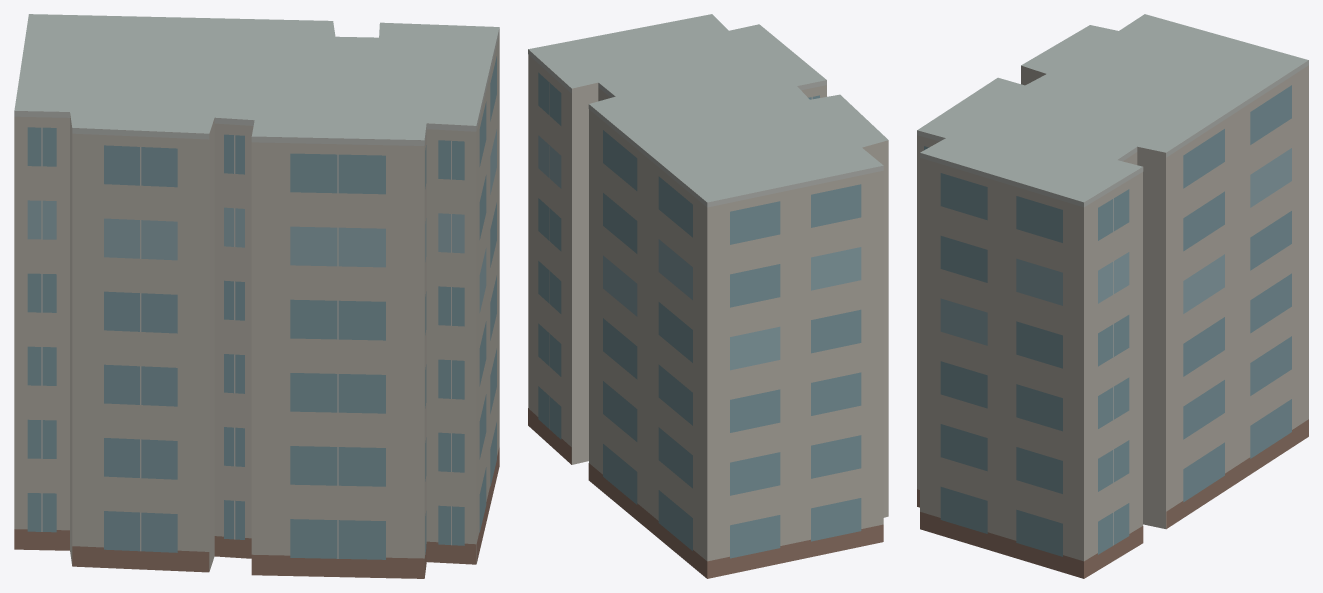
Rendered from survey-upis-32936646.glb.
3 renders of one model, left to right at view 1: azimuth 30°, elevation 25°; view 2: azimuth 150°, elevation 25°; view 3: azimuth 270°, elevation 25°, orthographic. The views are drawn at different scales.
Visible parts, largest first — view 1: survey-upis-32936646.tmp; view 2: survey-upis-32936646.tmp; view 3: survey-upis-32936646.tmp.
Part boxes in pixels (bbox=[...]): survey-upis-32936646.tmp: bbox=[14, 14, 499, 578]; survey-upis-32936646.tmp: bbox=[528, 14, 888, 578]; survey-upis-32936646.tmp: bbox=[917, 14, 1308, 578].
Bounding box in the file's own units: 19.65 × 18.3 × 17.27.
